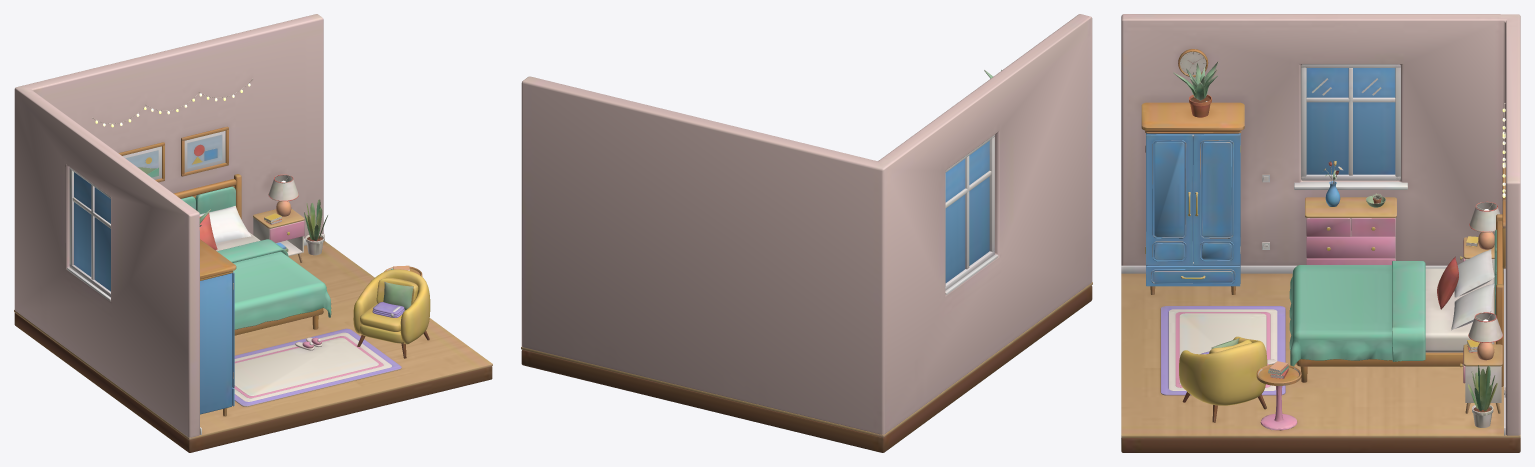
File: bedroom.glb
3 views of the same model, side by side, from view 1: azimuth 30°, elevation 25°; view 2: azimuth 150°, elevation 25°; view 3: azimuth 270°, elevation 25° (orthographic). The views are drawn at different scales.
Parts seen in each view (by area): view 1: bedroom_body; view 2: bedroom_body; view 3: bedroom_body.
Boxes of the visible parts, left/top/right/bottom form: bedroom_body: left=14, top=14, right=492, bottom=452; bedroom_body: left=521, top=14, right=1092, bottom=452; bedroom_body: left=1121, top=14, right=1520, bottom=452.
Bounding box in the file's own units: 4 × 3 × 4.
Materials: 5 (1 with a texture image).
